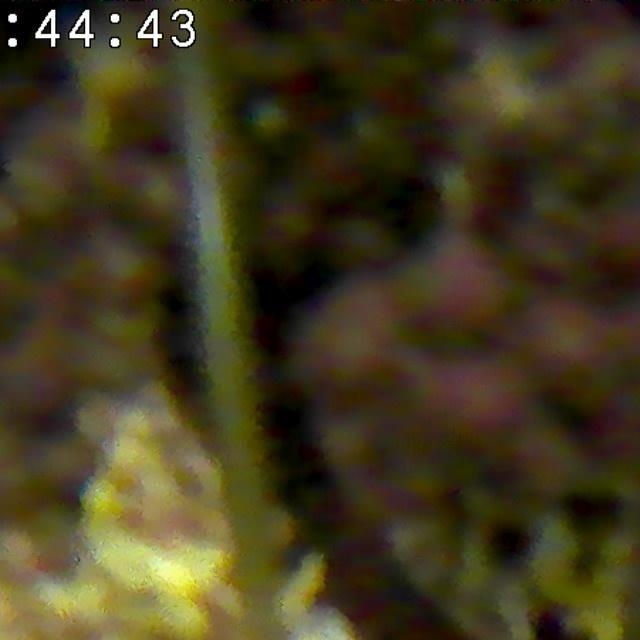SeaGrape: (330, 212, 399, 277)
